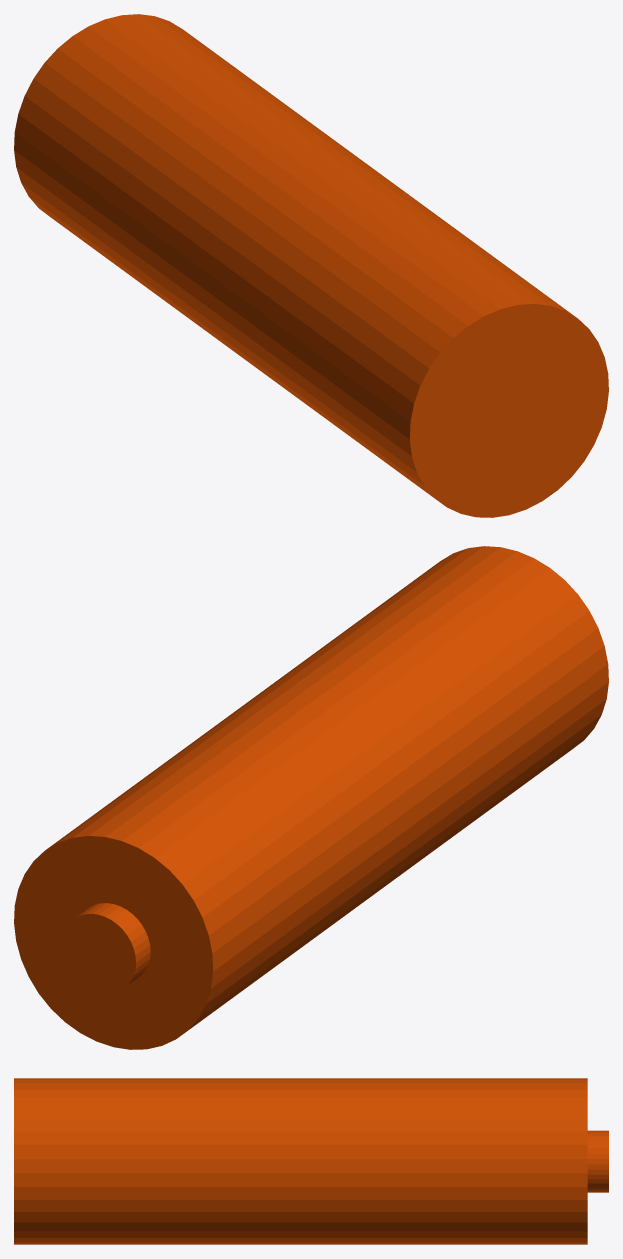
Rendered from wb-bob-battery.dae.
The picture shows the model from 3 angles, top to bottom: view 1: azimuth 30°, elevation 25°; view 2: azimuth 150°, elevation 25°; view 3: azimuth 270°, elevation 25°; orthographic projection. The views are drawn at different scales.
Visible parts, largest first — view 1: wb-bob-battery; view 2: wb-bob-battery; view 3: wb-bob-battery.
Part boxes in pixels (x1=…): wb-bob-battery: x1=14, y1=14, x2=608, y2=517; wb-bob-battery: x1=14, y1=546, x2=608, y2=1049; wb-bob-battery: x1=14, y1=1078, x2=608, y2=1244.
Size of the model in its own units: 0.0141 by 0.0504 by 0.0141.
